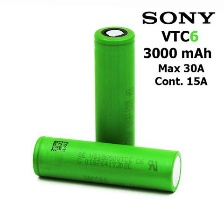battery: (28, 132, 184, 197), (92, 21, 138, 172)
